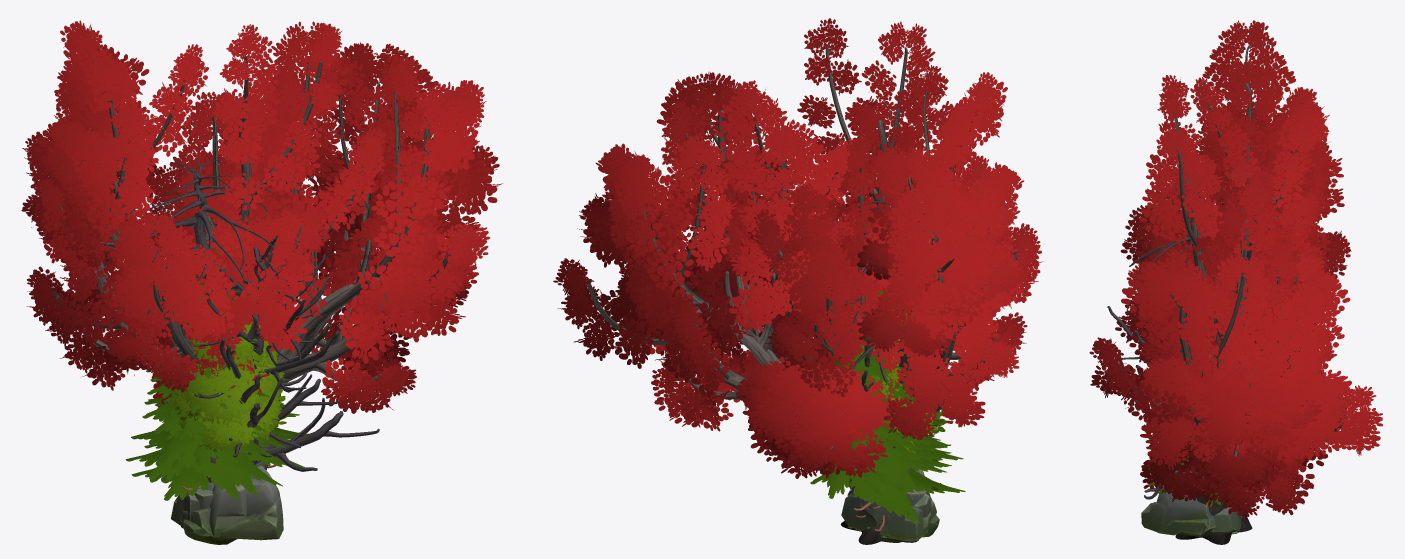
File: nature.glb
3 renders of one model, left to right at view 1: azimuth 30°, elevation 25°; view 2: azimuth 150°, elevation 25°; view 3: azimuth 270°, elevation 25°, orthographic. The views are drawn at different scales.
Parts seen in each view (by area): view 1: TwistedTree_2, TwistedTree_1, DeadTree_2, Rock_Medium_3, Pine_2, CommonTree_3, DeadTree_3, Pine_4, CommonTree_1, Pine_5, CommonTree_2, DeadTree_1 (+2 smaller); view 2: TwistedTree_1, TwistedTree_2, Pine_5, Rock_Medium_2, Pine_4, Pine_2; view 3: TwistedTree_1, TwistedTree_2, Rock_Medium_3, Rock_Medium_2, DeadTree_2, DeadTree_3.
Part boxes in pixels (box(x1,y1,x2,y2)): TwistedTree_2: box(21, 20, 342, 482); TwistedTree_1: box(151, 21, 502, 528); DeadTree_2: box(169, 219, 379, 471); Rock_Medium_3: box(183, 465, 283, 544); Pine_2: box(131, 355, 291, 500); CommonTree_3: box(180, 299, 284, 428); DeadTree_3: box(105, 158, 301, 362); Pine_4: box(131, 248, 288, 490); CommonTree_1: box(174, 348, 287, 451); Pine_5: box(125, 344, 308, 495); CommonTree_2: box(171, 339, 285, 453); DeadTree_1: box(146, 277, 339, 447); TwistedTree_1: box(553, 71, 918, 544); TwistedTree_2: box(753, 18, 1043, 470); Pine_5: box(817, 318, 955, 515); Rock_Medium_2: box(841, 489, 927, 540); Pine_4: box(831, 273, 963, 531); Pine_2: box(810, 425, 965, 523); TwistedTree_1: box(1089, 170, 1382, 544); TwistedTree_2: box(1120, 20, 1351, 376); Rock_Medium_3: box(1141, 485, 1211, 535); Rock_Medium_2: box(1210, 507, 1241, 533); DeadTree_2: box(1107, 253, 1187, 499); DeadTree_3: box(1129, 187, 1236, 539).
Size of the model in its own units: 17.96 by 19.08 by 11.55.
12 materials, 12 textured.
